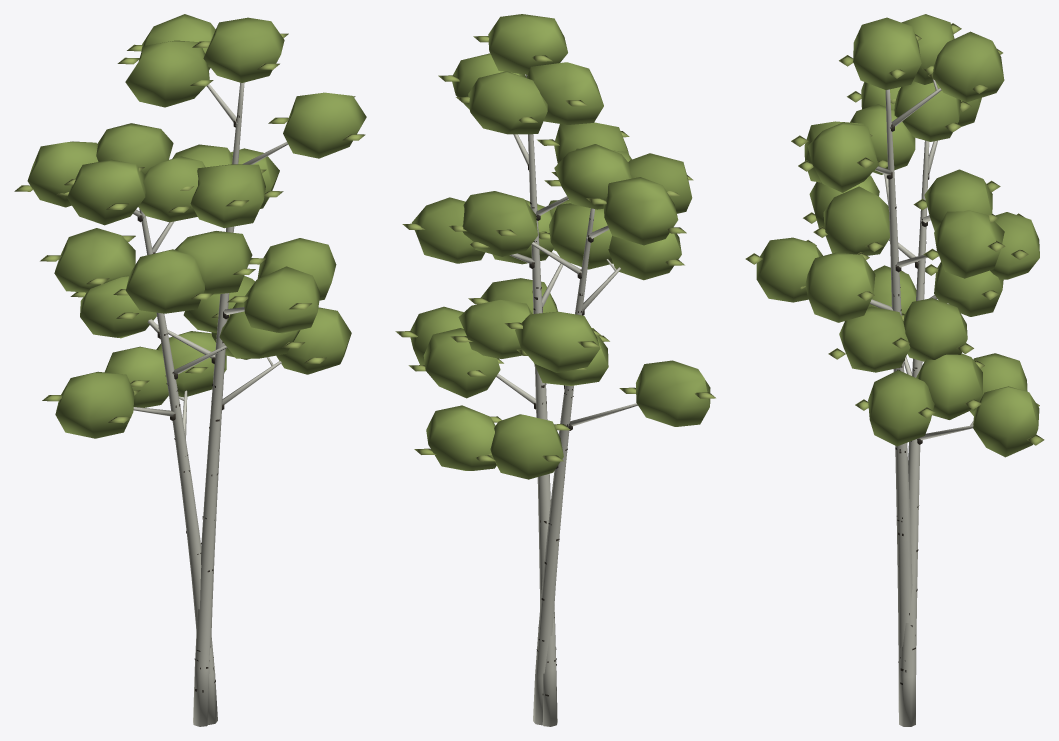
File: tree_birch.glb
3 views of the same model, side by side, from view 1: azimuth 30°, elevation 25°; view 2: azimuth 150°, elevation 25°; view 3: azimuth 270°, elevation 25° (orthographic). The views are drawn at different scales.
Visible parts, largest first — view 1: tree_birch_mesh; view 2: tree_birch_mesh; view 3: tree_birch_mesh.
Part boxes in pixels (left/top/right/bottom): tree_birch_mesh: left=14, top=14, right=366, bottom=726; tree_birch_mesh: left=395, top=14, right=715, bottom=726; tree_birch_mesh: left=745, top=14, right=1044, bottom=726.
Size of the model in its own units: 6.01 by 12.9 by 4.94.
